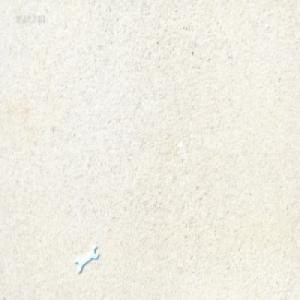Wrench: (75, 245, 99, 273)
